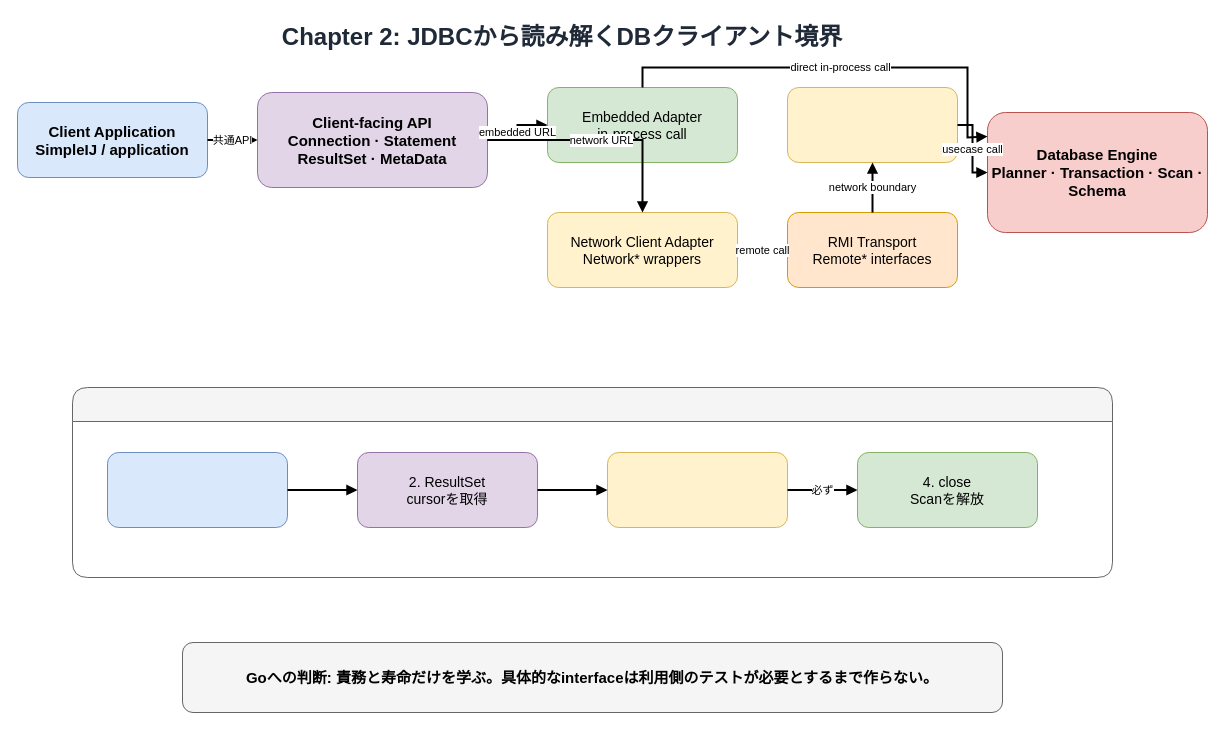
The diagram is 1225 pixels wide and 730 high, and some of its shapes have lost their labels. The shapes that lost their labels are listed below. From the top down, each one's box as (x1, y1, x2, y2) in pixels, then its label:
(786, 86, 958, 162): Server Adapter Remote*Impl
(106, 452, 288, 528): 1. executeQuery SQLを送る
(72, 386, 1112, 578): Query resource lifecycle
(606, 452, 788, 528): 3. next / get 行を逐次処理
